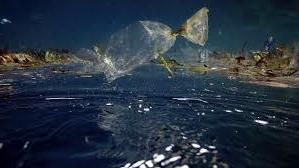Trash: (86, 8, 224, 87)
